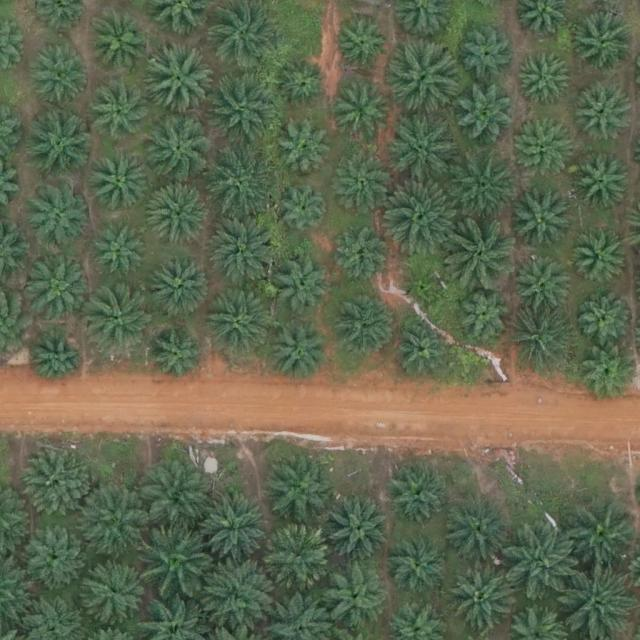Healthy: (505, 527, 576, 598), (265, 453, 336, 524), (199, 564, 270, 635), (22, 450, 93, 521), (446, 218, 517, 289), (210, 75, 281, 146), (446, 496, 516, 567), (559, 563, 630, 633), (319, 566, 389, 637), (202, 493, 272, 564), (83, 486, 153, 557), (508, 304, 578, 375), (448, 150, 518, 221), (389, 39, 460, 109), (389, 114, 459, 185), (205, 149, 275, 220), (210, 219, 280, 290), (203, 288, 273, 359), (142, 47, 212, 118), (144, 114, 214, 185), (87, 285, 157, 356), (568, 500, 638, 570), (143, 525, 213, 595), (142, 463, 212, 533), (387, 184, 457, 254), (387, 464, 450, 527), (84, 559, 147, 622), (574, 15, 637, 78), (515, 122, 578, 185), (150, 256, 213, 319), (29, 41, 92, 104), (451, 570, 513, 633), (388, 535, 450, 598), (327, 501, 389, 564), (23, 522, 85, 585), (577, 344, 639, 407), (513, 253, 575, 316), (455, 285, 517, 348), (452, 85, 514, 148), (335, 296, 397, 359), (269, 324, 331, 387), (150, 182, 212, 245), (90, 11, 152, 74), (91, 84, 153, 147), (89, 153, 151, 216), (29, 116, 91, 179), (27, 184, 89, 247), (30, 260, 92, 323), (513, 196, 575, 258), (576, 155, 631, 210), (571, 233, 626, 288), (574, 290, 629, 345), (517, 53, 572, 108), (338, 91, 393, 146), (336, 156, 391, 211), (334, 228, 389, 283), (275, 61, 330, 116), (279, 125, 334, 180), (276, 184, 331, 239), (151, 333, 206, 388), (30, 333, 85, 388), (577, 85, 631, 140), (462, 27, 516, 82), (396, 322, 450, 377), (336, 19, 390, 74), (276, 257, 330, 312), (96, 225, 150, 280)
Small: (406, 270, 445, 310)
Yellow: (263, 524, 333, 595)
